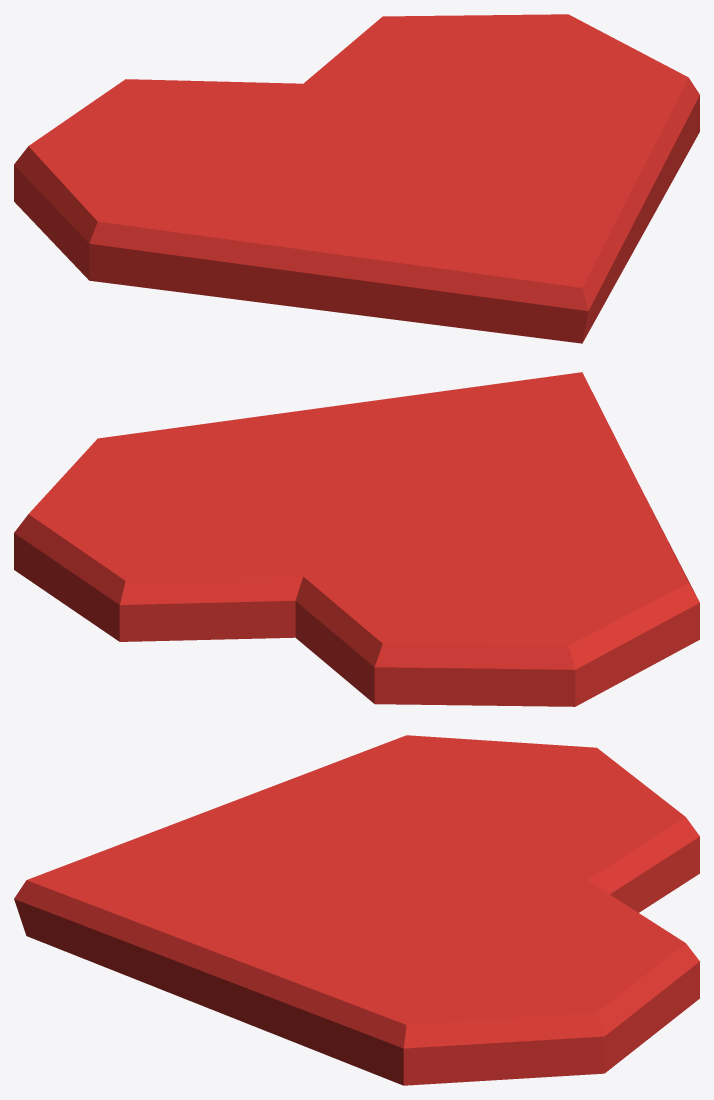
The model's file is SM_Gingerbread_Heart_A.fbx.
3 renders of one model, top to bottom at view 1: azimuth 30°, elevation 25°; view 2: azimuth 150°, elevation 25°; view 3: azimuth 270°, elevation 25°, orthographic.
Parts seen in each view (by area): view 1: gingerbread-heart-a; view 2: gingerbread-heart-a; view 3: gingerbread-heart-a.
Part boxes in pixels (<box>): gingerbread-heart-a: <box>14,14,699,343</box>; gingerbread-heart-a: <box>14,372,699,706</box>; gingerbread-heart-a: <box>14,735,699,1085</box>.
Bounding box in the file's own units: 0.0595 × 0.00519 × 0.0577.
